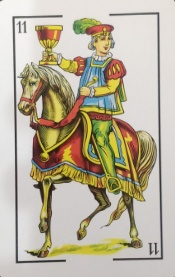11c: (10, 10, 161, 36)
